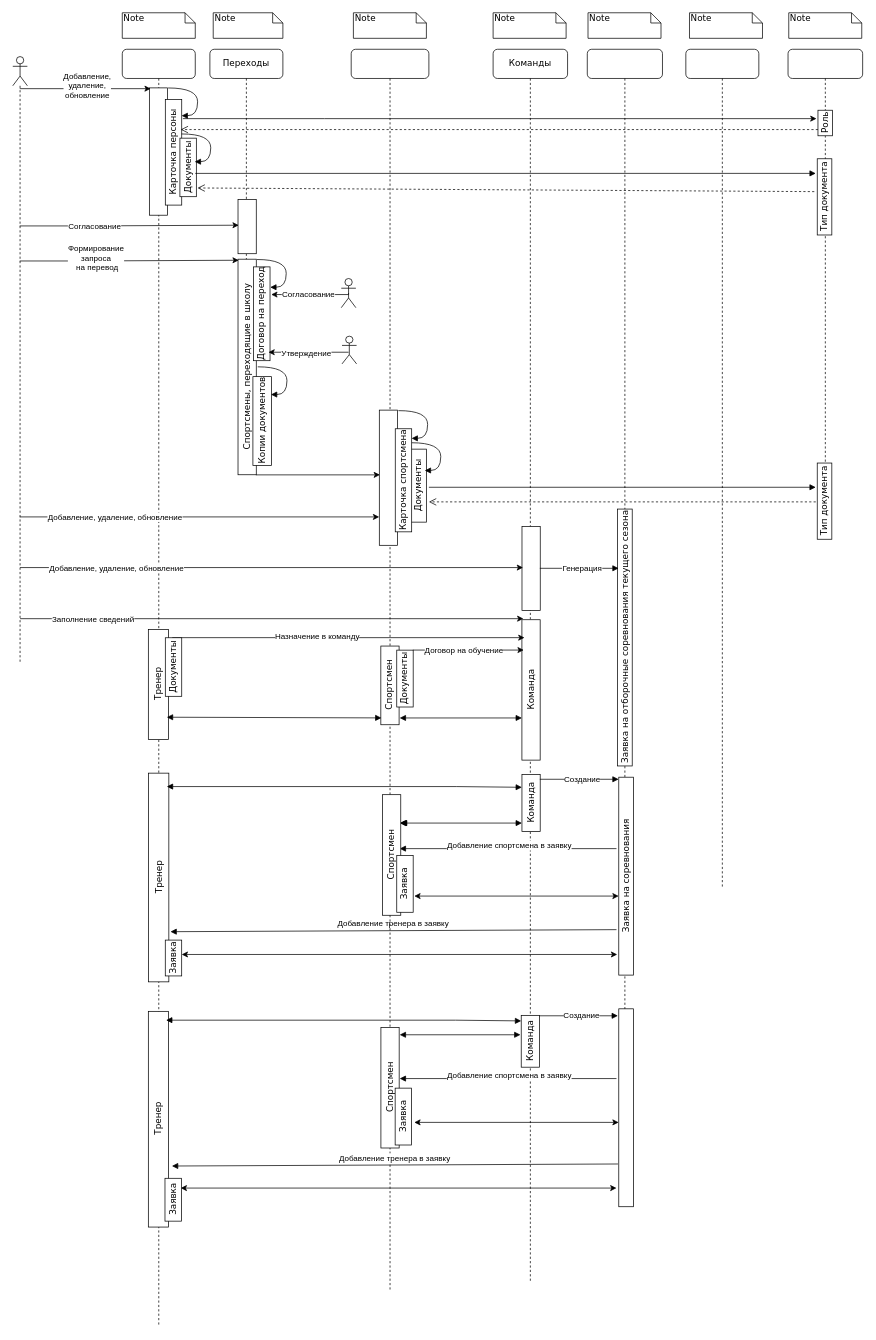
Some shapes in this 876 by 1340 pixel diagram are drawn without their labels. Each missing label, with the box of its shape:
Другая школа: (341, 278, 356, 308)
Заявка на игру: (618, 1008, 633, 1207)
Заявки: (587, 49, 662, 1188)
Из школы: (237, 199, 256, 254)
Матчи: (685, 49, 759, 889)
Персонал: (122, 49, 195, 1327)
Список команд: (521, 526, 540, 610)
Список персон: (149, 87, 168, 215)
Список спортсменов школы: (379, 409, 398, 545)
Спортсмены: (350, 49, 429, 1290)
Справочники: (787, 49, 863, 473)
Филиал ФХР: (341, 335, 357, 364)
